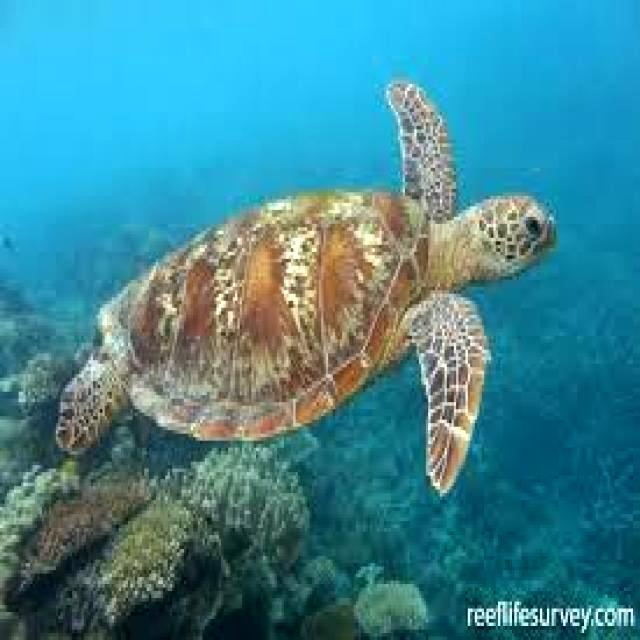Sea turtle: (44, 68, 568, 526)
